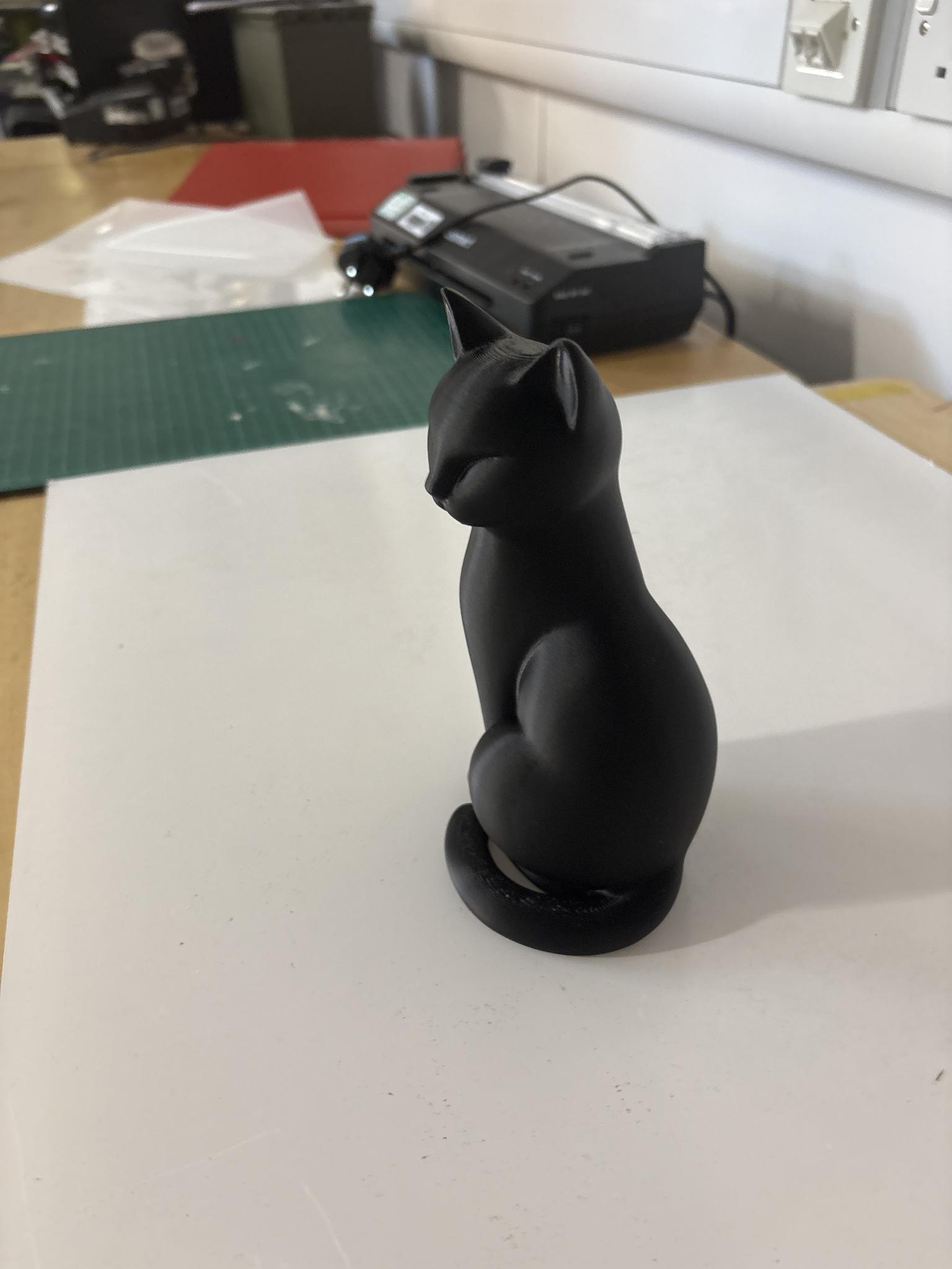cat: (426, 292, 716, 954)
